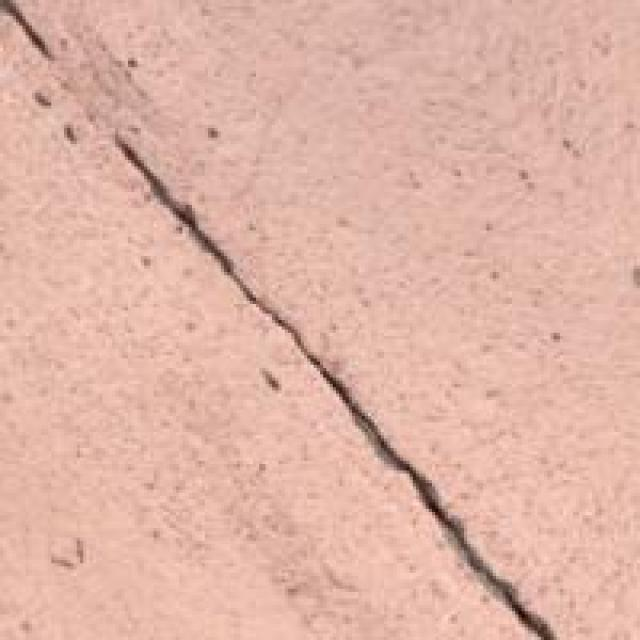Crack: (8, 1, 555, 628)
